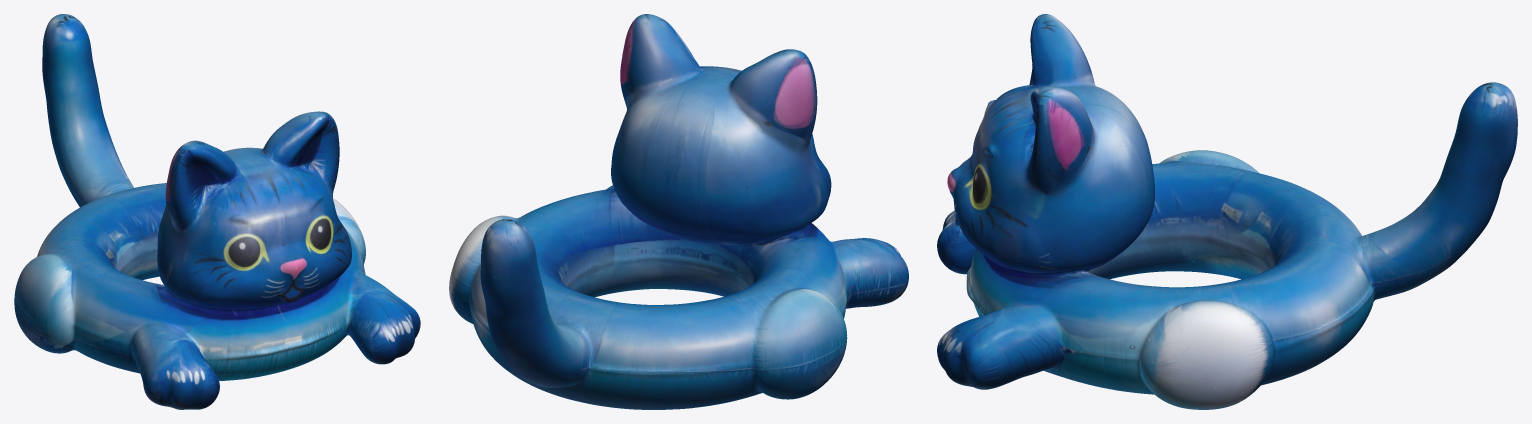
Rendered from Float2.fbx.
The picture shows the model from 3 angles, left to right: view 1: azimuth 30°, elevation 25°; view 2: azimuth 150°, elevation 25°; view 3: azimuth 270°, elevation 25°; orthographic projection. The views are drawn at different scales.
Parts seen in each view (by area): view 1: float_Blue; view 2: float_Blue; view 3: float_Blue.
Boxes of the visible parts, x1,y1,x2,y2 form: float_Blue: (14,14,420,409); float_Blue: (449,14,908,409); float_Blue: (937,14,1517,409).
Bounding box in the file's own units: 151 × 105 × 200.
Materials: 1 (1 with a texture image).
